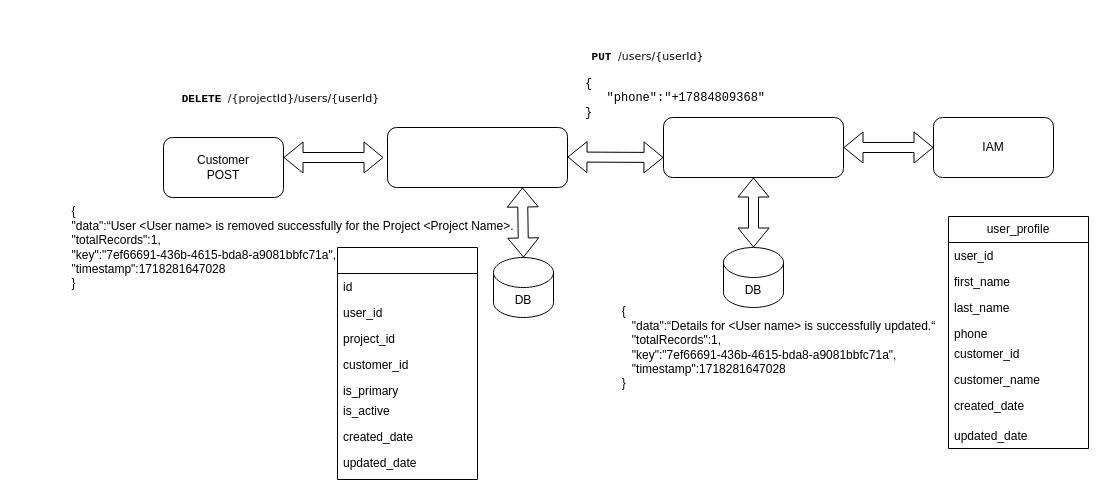
Some shapes in this 1106 by 499 pixel diagram are drawn without their labels. Here are the shapes that lost their labels. From the top down, the box of each, then its label:
(386, 126, 568, 188): iomp-customer-service
(662, 116, 844, 178): iomp-user-service
(336, 246, 478, 480): project_user_mapping
